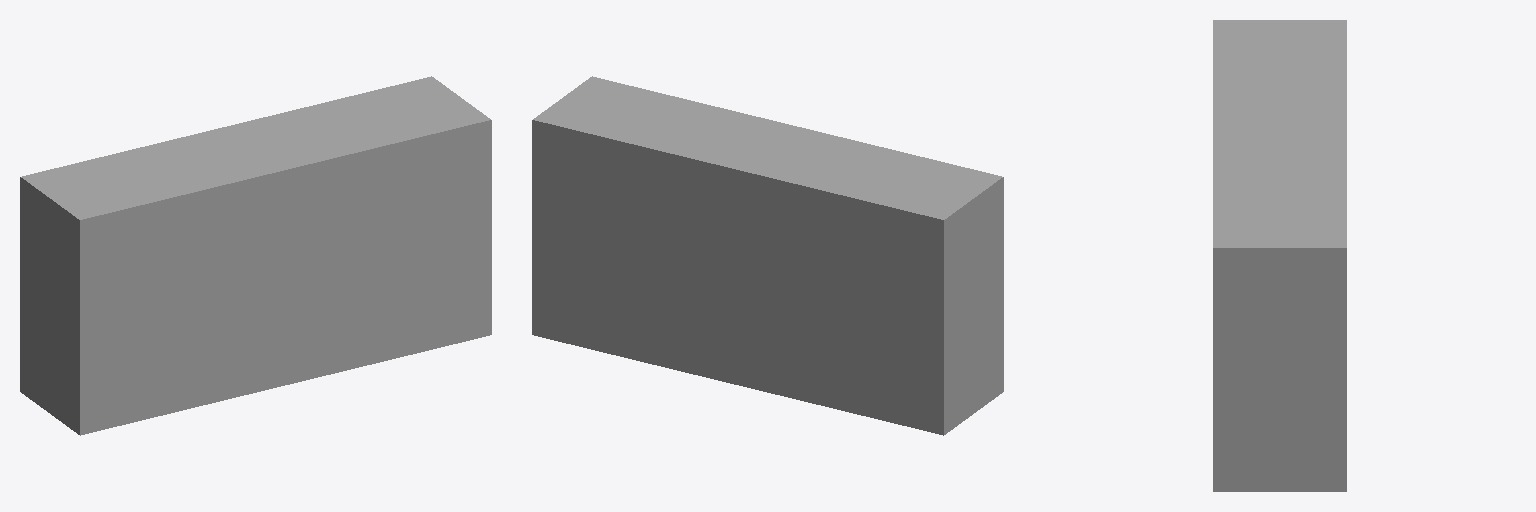
URDF robot description (block_2):
<?xml version="1.0"?>
<robot name="block_2">
  <link name="block_2_base_link">
    <contact>
      <lateral_friction value="1.0"/>
      <spinning_friction value=".001"/>
    </contact>
    <inertial>
      <origin rpy="0 0 0" xyz="0 0 0"/>
      <mass value="0.02"/>
      <inertia ixx="1" ixy="0" ixz="0" iyy="1" iyz="0" izz="1"/>
    </inertial>
    <visual>
      <origin rpy="0 0 0" xyz="0.0 0.0 0.0"/>
      <geometry>
        <box size="2 .5 1"/>
      </geometry>
      <material name="blockmat">
        <color rgba=".7 .7 .7 1"/>
      </material>
    </visual>
    <collision>
      <origin rpy="0 0 0" xyz="0.0 0.0 0.0"/>
      <geometry>
        <box size="2 .5 1"/>
      </geometry>
    </collision>
  </link>
</robot>

--- Render facts (derived) ---
Views: 3 orthographic renders of the robot side by side, from view 1: azimuth 30°, elevation 25°; view 2: azimuth 150°, elevation 25°; view 3: azimuth 270°, elevation 25°.
Robot: block_2 — 1 links, 0 joints (none); root link block_2_base_link; default pose: all joints at 0.
Links seen in each view (by area): view 1: block_2_base_link; view 2: block_2_base_link; view 3: block_2_base_link.
Link boxes in pixels (bbox=[...]): block_2_base_link: bbox=[20, 76, 491, 435]; block_2_base_link: bbox=[532, 76, 1003, 435]; block_2_base_link: bbox=[1213, 20, 1346, 491].
Bounding box of the posed robot: 2 × 0.5 × 1 m (x, y, z).
Geometry: primitives only (box / cylinder / sphere), no mesh files.
